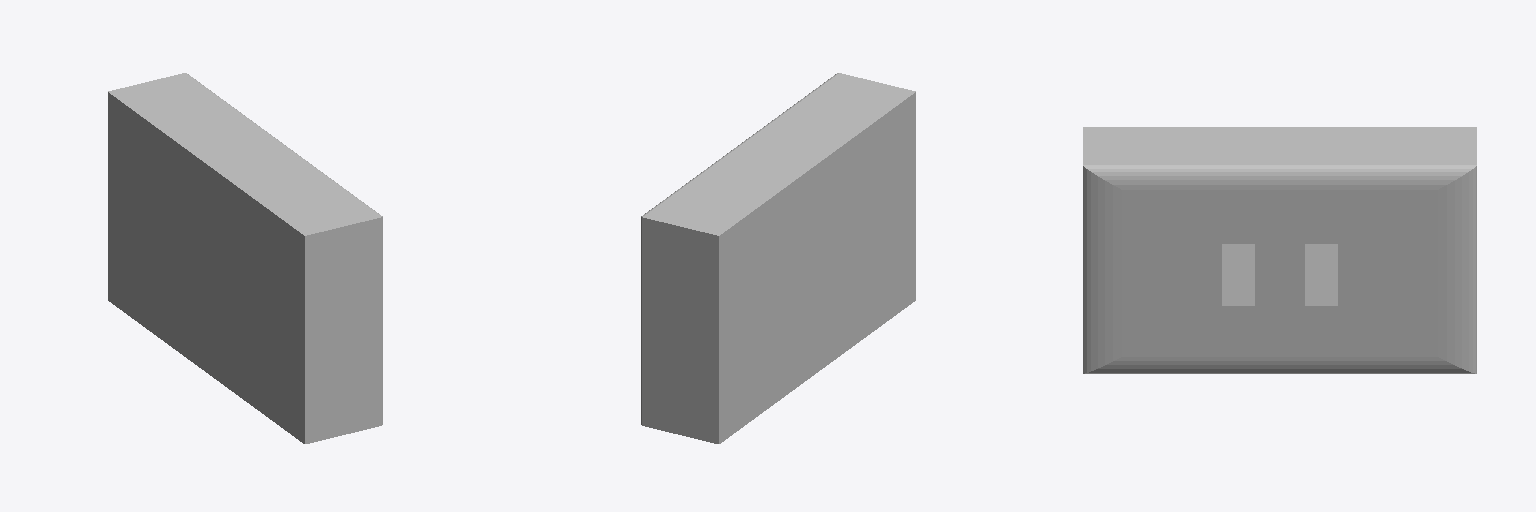
Rendered from lightswitch2.obj.
3 renders of one model, left to right at view 1: azimuth 30°, elevation 25°; view 2: azimuth 150°, elevation 25°; view 3: azimuth 270°, elevation 25°, orthographic.
Parts seen in each view (by area): view 1: Cube; view 2: Cube; view 3: Cube, Cube.001, Cube.002.
Boxes of the visible parts, box(x1,y1,x2,y2) form: Cube: box(108, 73, 382, 443); Cube: box(641, 73, 915, 443); Cube: box(1083, 127, 1476, 373); Cube.001: box(1222, 244, 1254, 305); Cube.002: box(1305, 244, 1337, 305).
Bounding box in the file's own units: 7 × 14 × 24.